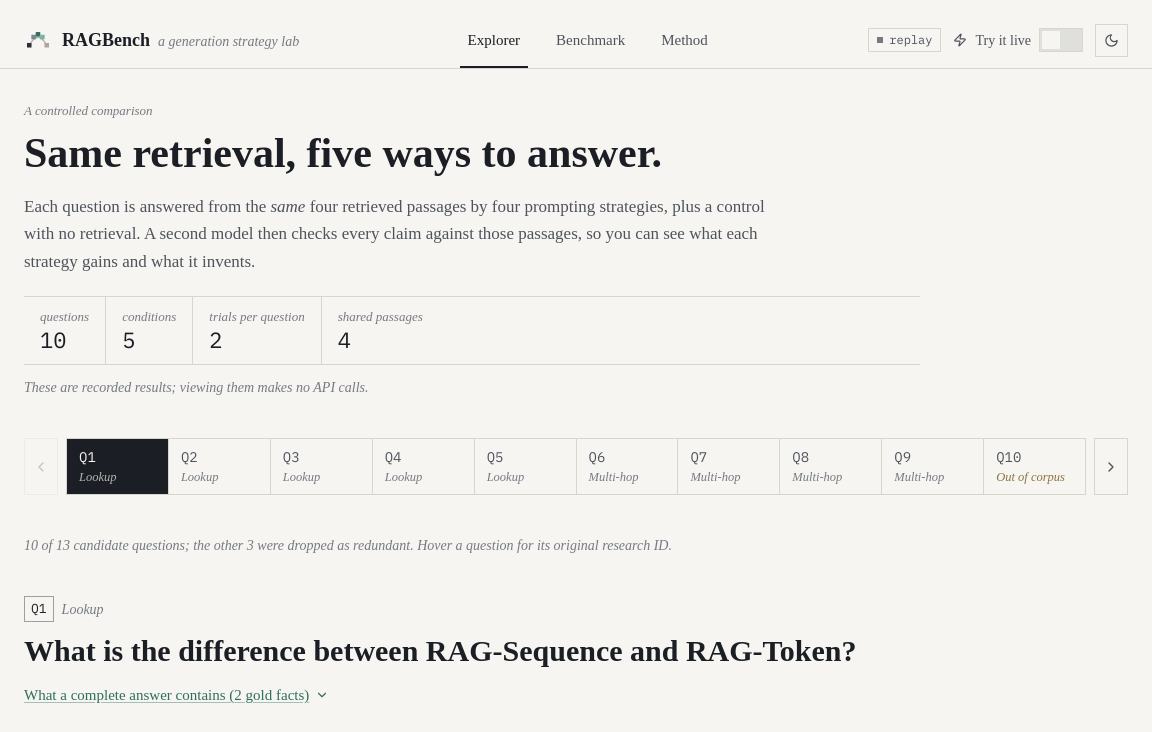
Test case: benchmark and method tabs › renders the aggregate report with its small-sample warning
Click the button "Benchmark".
click(591, 40)  # box [544,12,637,68]
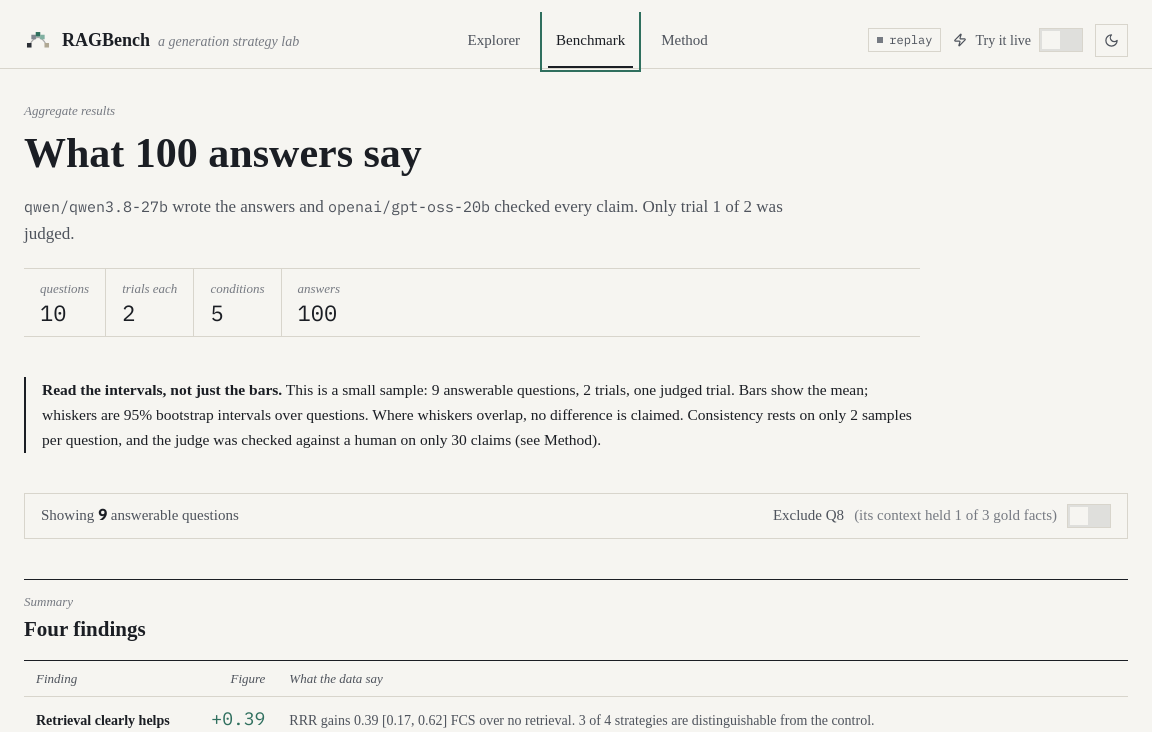
Expected: the heading "What 100 answers say" is shown, [24,130,422,176]
Expected: the element that starts with "Read the intervals, not just the bars." shows "small sample", [282,381,432,398]
Expected: the text "Showing 9 answerable questions" is shown, [41,504,239,527]
